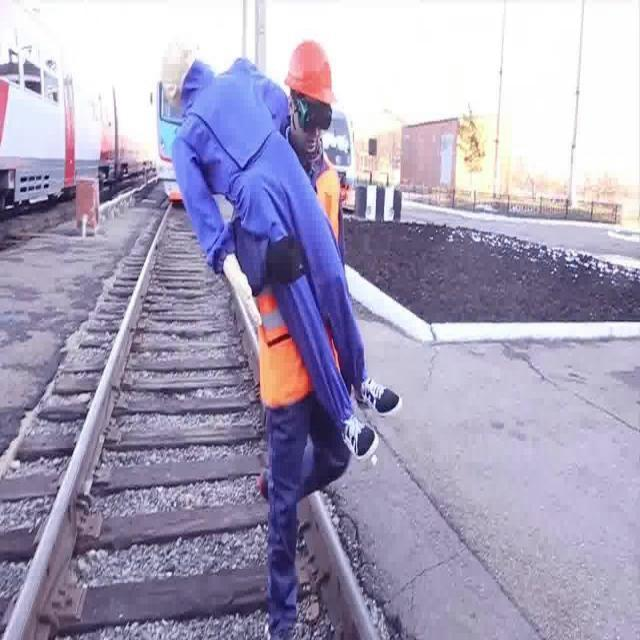vest: (258, 158, 342, 411)
